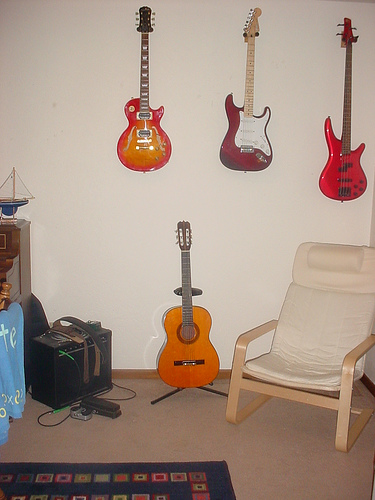guitar: (157, 219, 220, 389)
